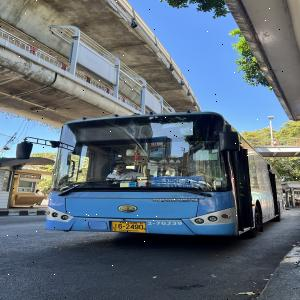BMTA-bus: (45, 112, 284, 238)
Bus Line Number: (153, 121, 193, 136)
Bus Side Number: (146, 220, 184, 225)
Destination Sign: (149, 177, 204, 189)
